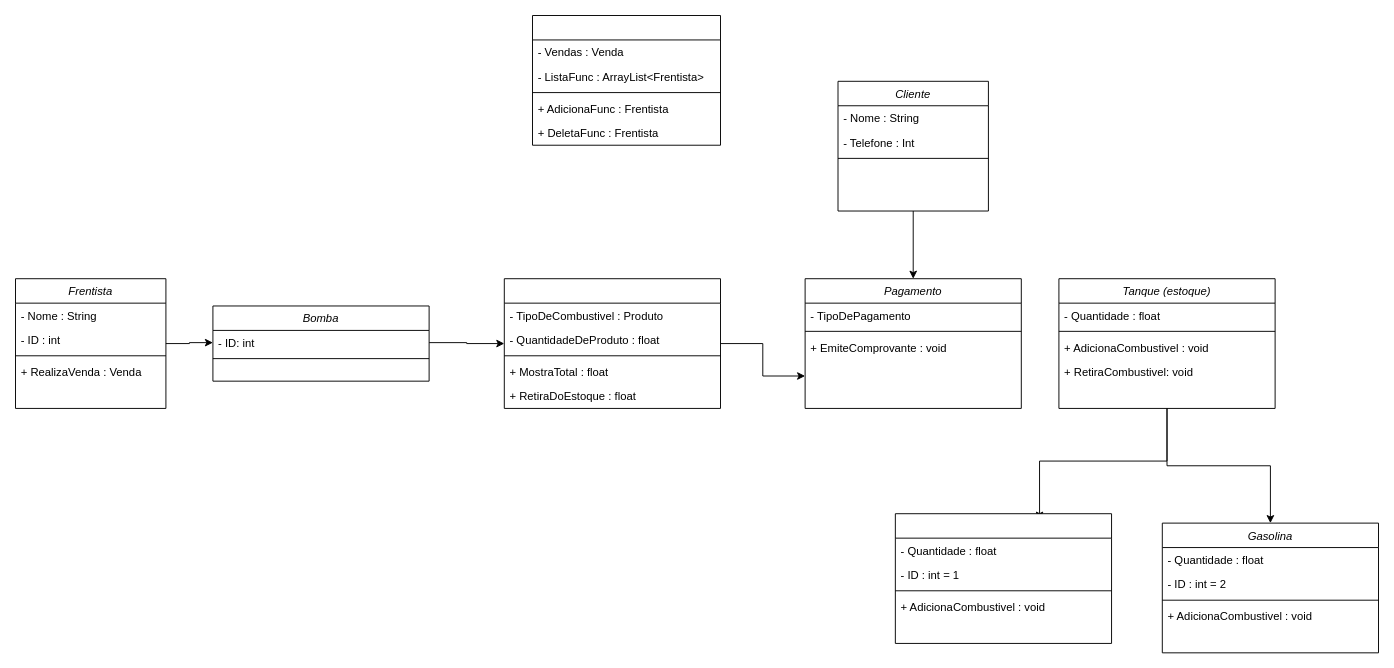
Image size: 1394x668. Some labels were removed from this diagram. The box of each missing label's shape, as (x1, y1, x2, y2) in pixels:
Etanol: (894, 513, 1112, 643)
Sistema: (532, 15, 721, 145)
Venda: (503, 278, 721, 408)
